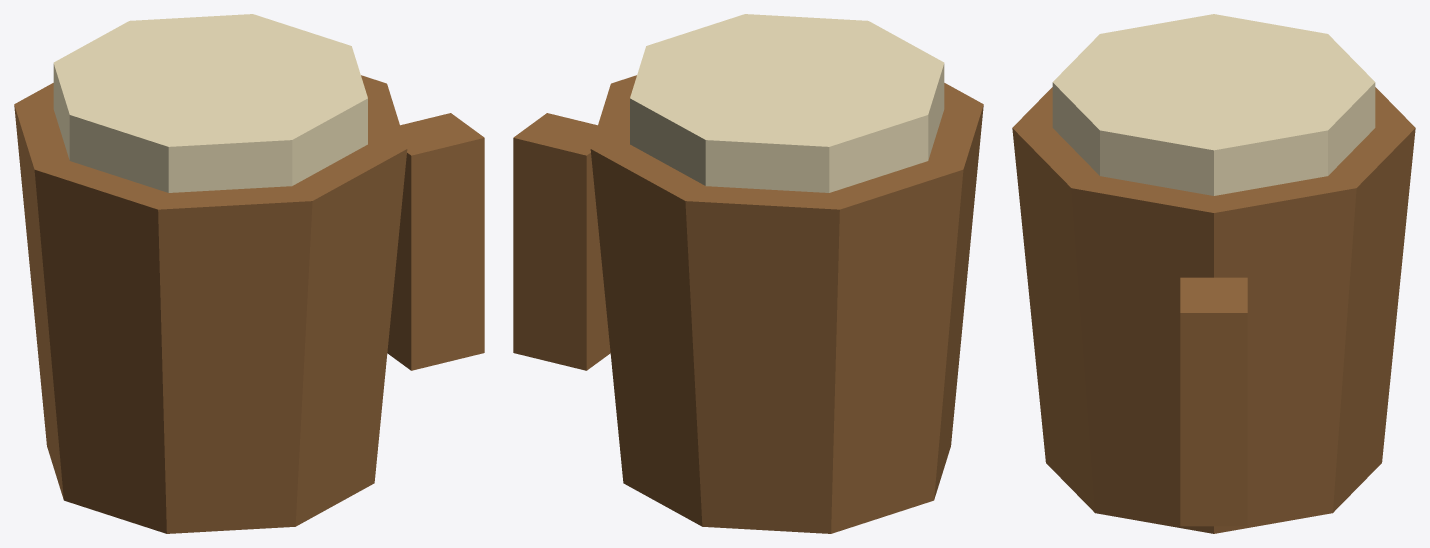
The model's file is mug_1.glb.
3 views of the same model, side by side, from view 1: azimuth 30°, elevation 25°; view 2: azimuth 150°, elevation 25°; view 3: azimuth 270°, elevation 25° (orthographic).
Parts seen in each view (by area): view 1: mug_1; view 2: mug_1; view 3: mug_1.
Boxes of the visible parts, x1=… form: mug_1: x1=14, y1=14, x2=484, y2=533; mug_1: x1=513, y1=14, x2=983, y2=533; mug_1: x1=1012, y1=14, x2=1415, y2=533.
Size of the model in its own units: 0.1475 by 0.125 by 0.12.
